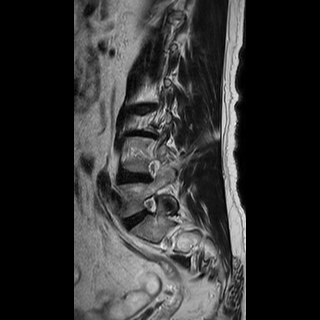LFS0: (136, 189, 164, 221)
